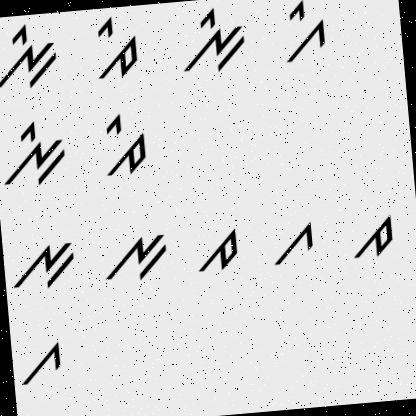ga: (267, 216, 321, 274), (17, 332, 68, 389)
gi: (270, 0, 331, 72)
nga: (96, 223, 172, 292), (8, 235, 79, 296)
ngi: (168, 3, 252, 78), (0, 116, 70, 190), (0, 19, 62, 92)
ta: (192, 223, 244, 279), (345, 212, 398, 265)
ti: (94, 104, 152, 181), (84, 13, 143, 86)
